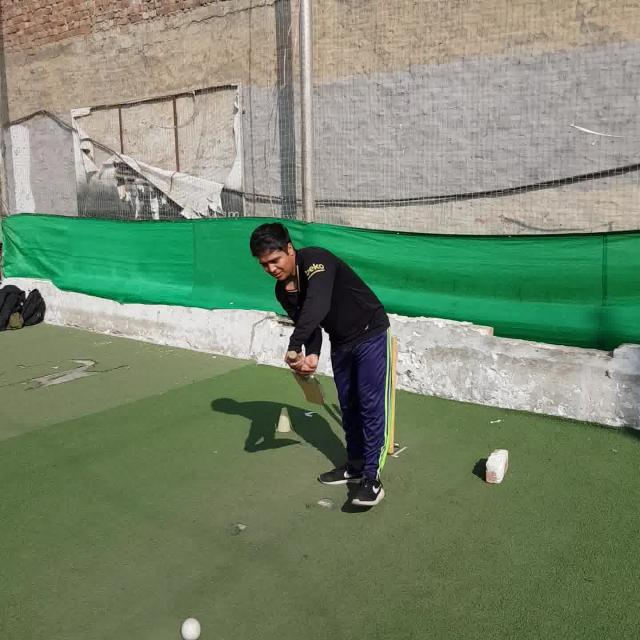ball: (182, 616, 200, 640)
bat: (286, 351, 324, 406)
